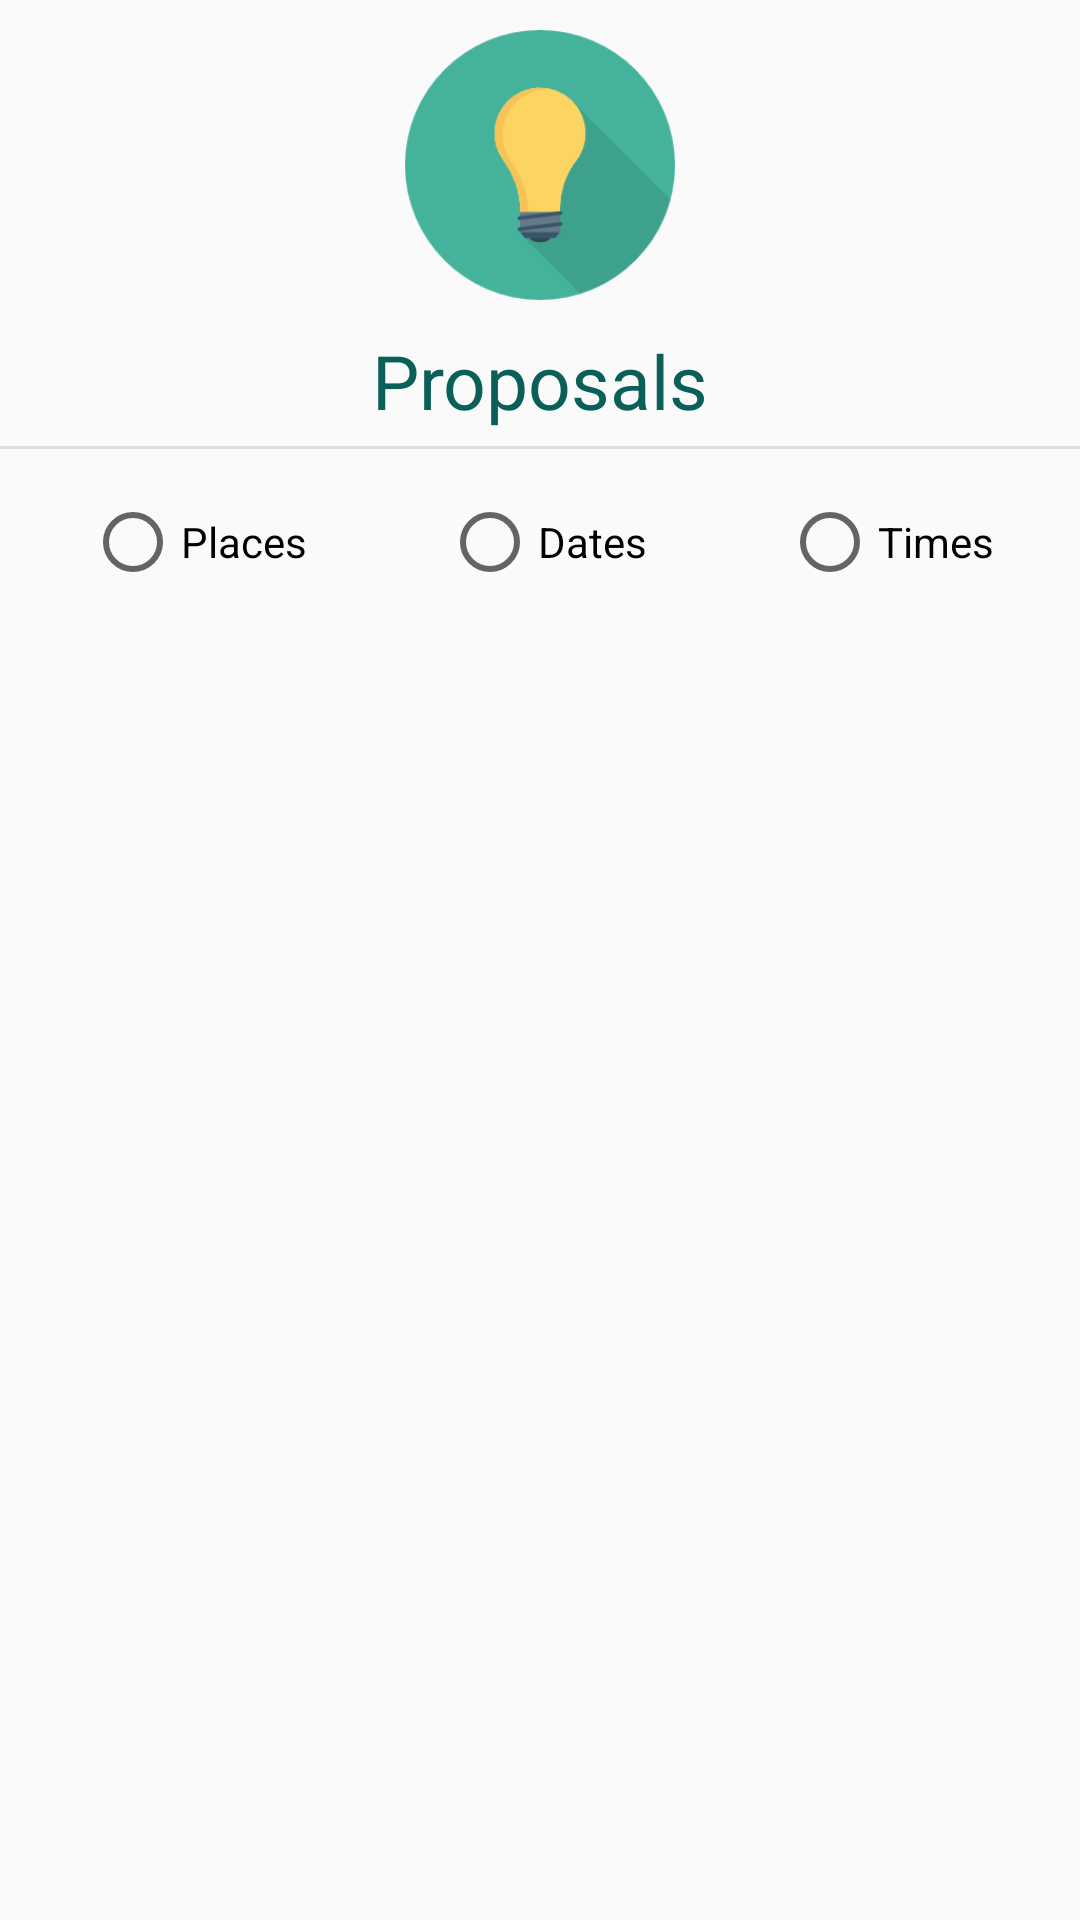

Screen size 1080px×1920px. Icon name, then its box in pixels as box(x1, y1, x2, y2):
bulb: box(405, 30, 675, 300)
